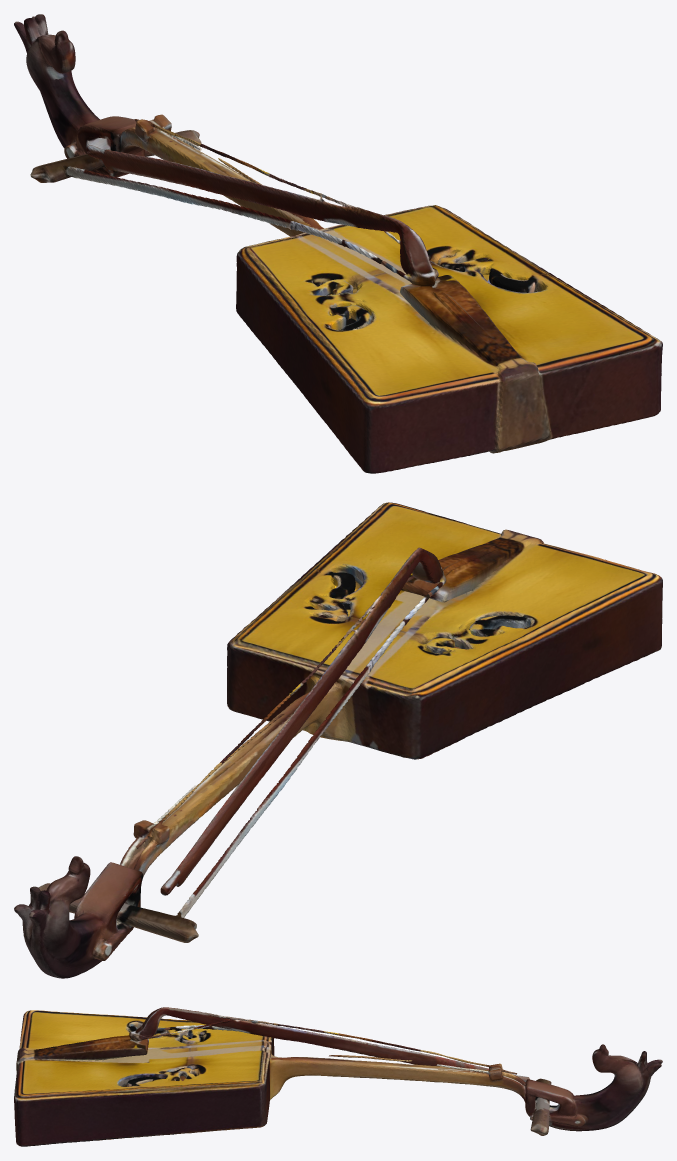
The model's file is matouqin.glb.
3 views of the same model, one above another, from view 1: azimuth 30°, elevation 25°; view 2: azimuth 150°, elevation 25°; view 3: azimuth 270°, elevation 25° (orthographic). The views are drawn at different scales.
Parts seen in each view (by area): view 1: tripo_node_f93570d5-2478-4e58-8633-3f32ae32de3a; view 2: tripo_node_f93570d5-2478-4e58-8633-3f32ae32de3a; view 3: tripo_node_f93570d5-2478-4e58-8633-3f32ae32de3a.
Boxes of the visible parts, x1,y1,x2,y2 form: tripo_node_f93570d5-2478-4e58-8633-3f32ae32de3a: (14,14,662,473); tripo_node_f93570d5-2478-4e58-8633-3f32ae32de3a: (14,502,662,978); tripo_node_f93570d5-2478-4e58-8633-3f32ae32de3a: (14,1007,662,1146).
Bounding box in the file's own units: 33.38 × 20.17 × 101.
Materials: 1 (1 with a texture image).
